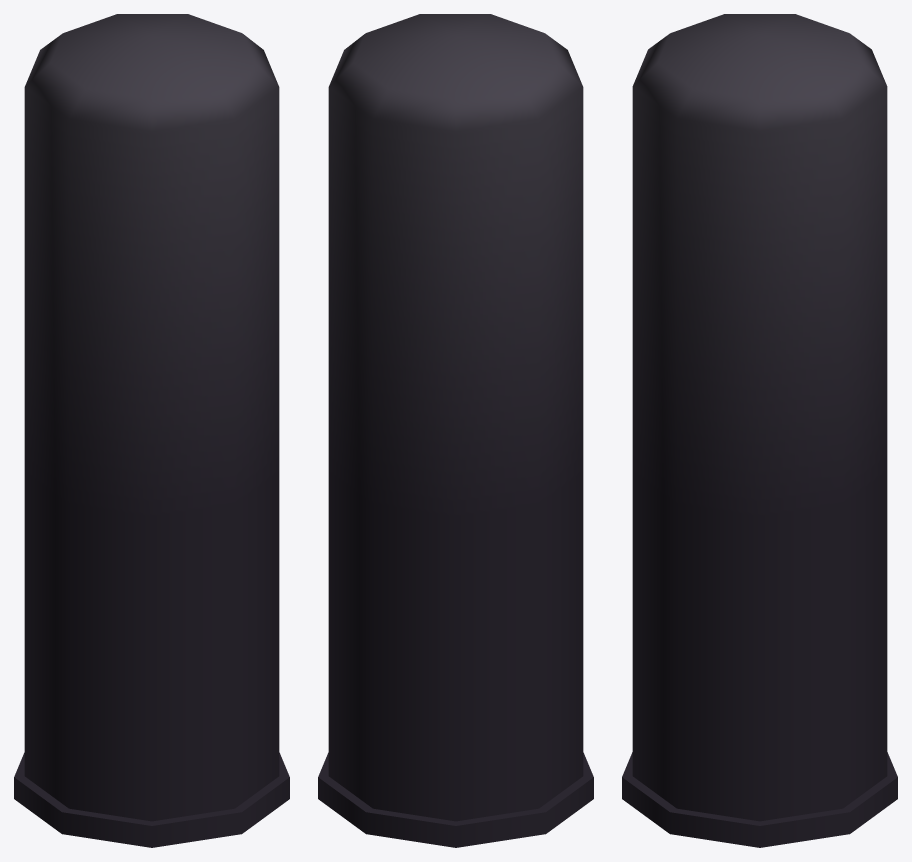
The model's file is WE01_Jetty_Bollard.fbx.
3 views of the same model, side by side, from view 1: azimuth 30°, elevation 25°; view 2: azimuth 150°, elevation 25°; view 3: azimuth 270°, elevation 25° (orthographic).
Parts seen in each view (by area): view 1: Bollard; view 2: Bollard; view 3: Bollard.
Part boxes in pixels (bbox=[...]): Bollard: bbox=[14, 14, 289, 847]; Bollard: bbox=[318, 14, 593, 847]; Bollard: bbox=[622, 14, 897, 847].
Bounding box in the file's own units: 1.29 × 3.95 × 1.31.
